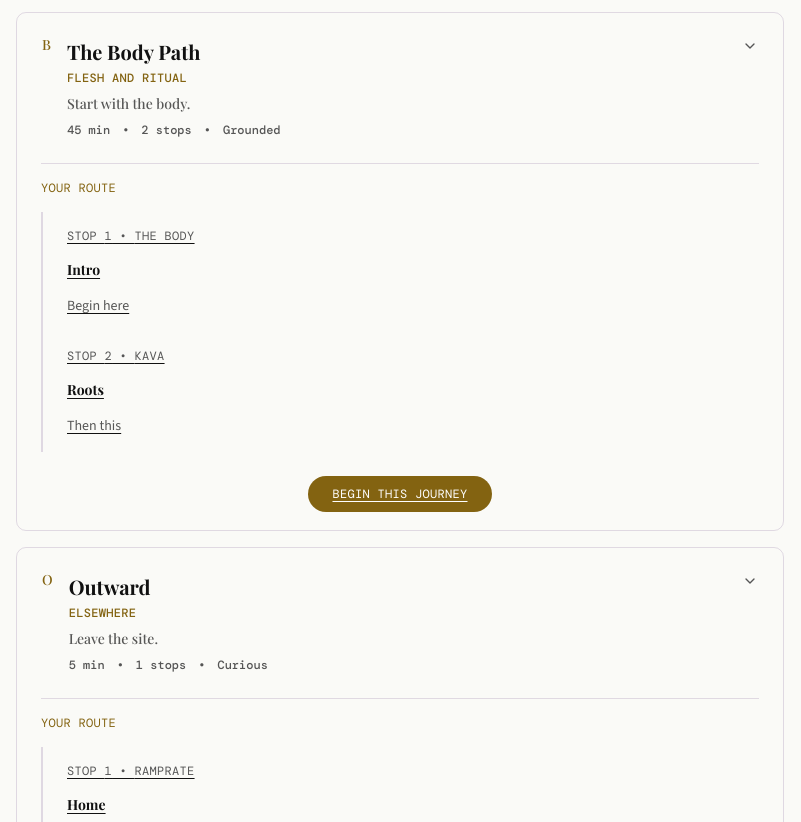
Scenario: JourneysAccordion › expands a journey on click
The image size is (801, 822).
Click the button "Outward" at (110, 586), box x1=41 y1=548 x2=759 y2=698
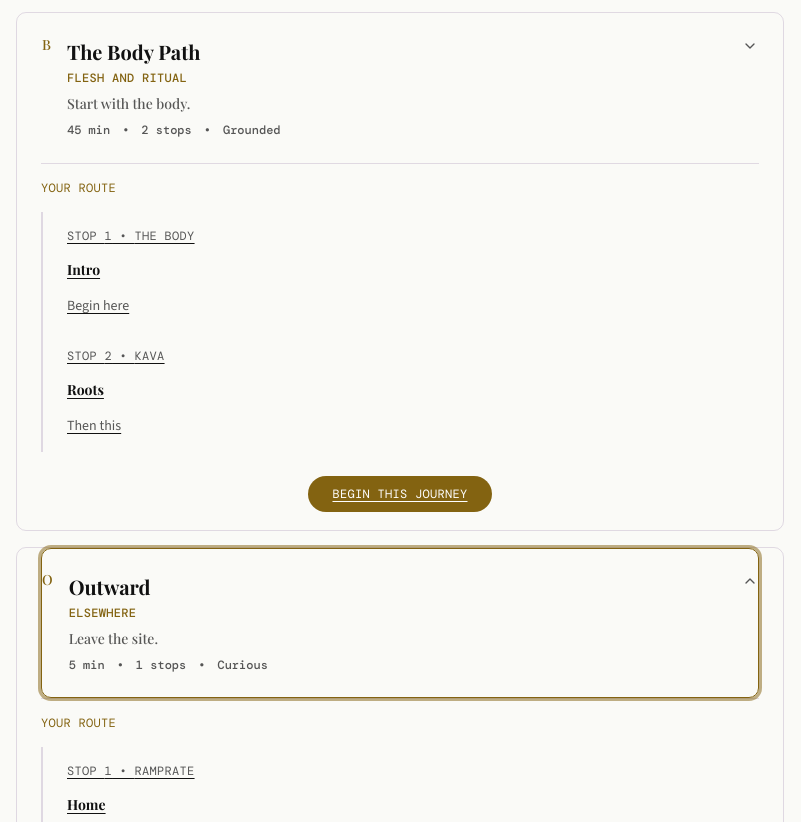
Result: the button "Outward" is expanded at x1=41 y1=548 x2=759 y2=698
